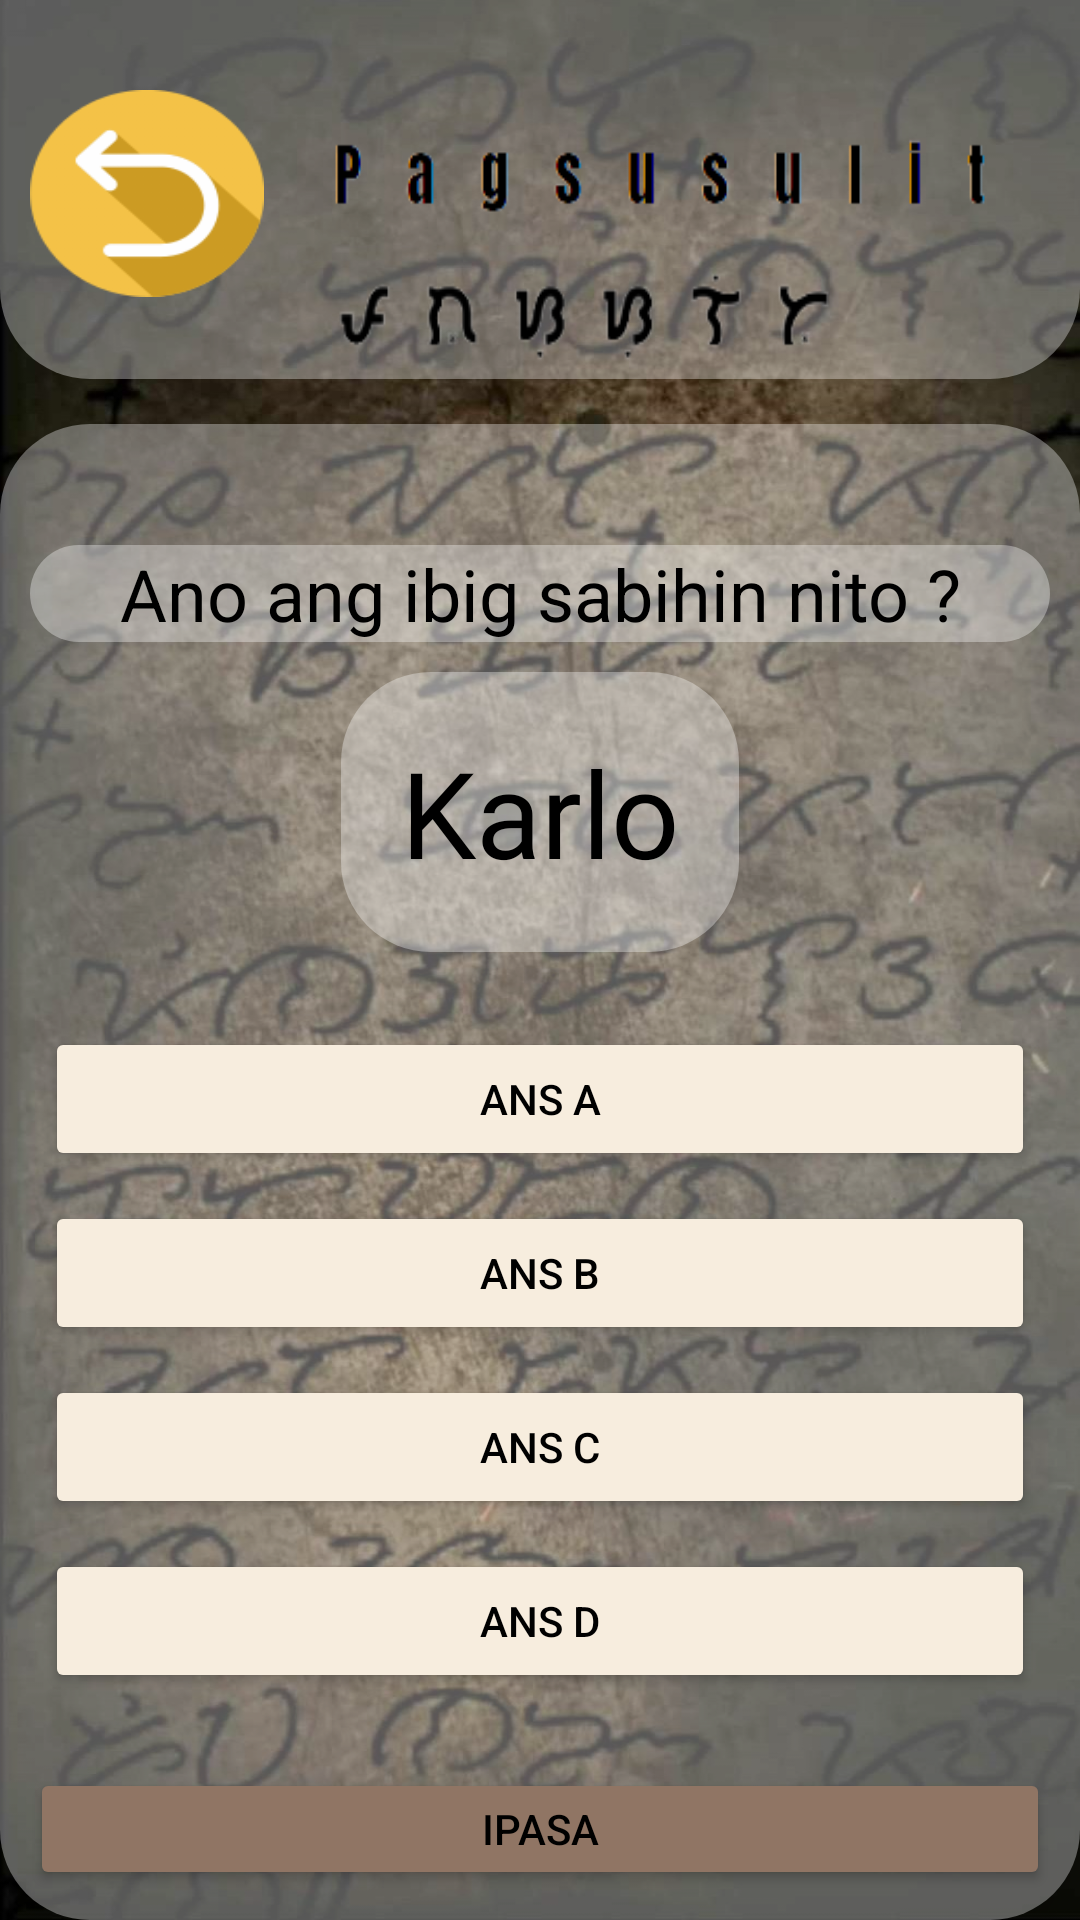

Locate icon controls on the screen. Image size 1080×1920, boxes as (x1, y1, x2, y2).
undo: (30, 90, 264, 297)
